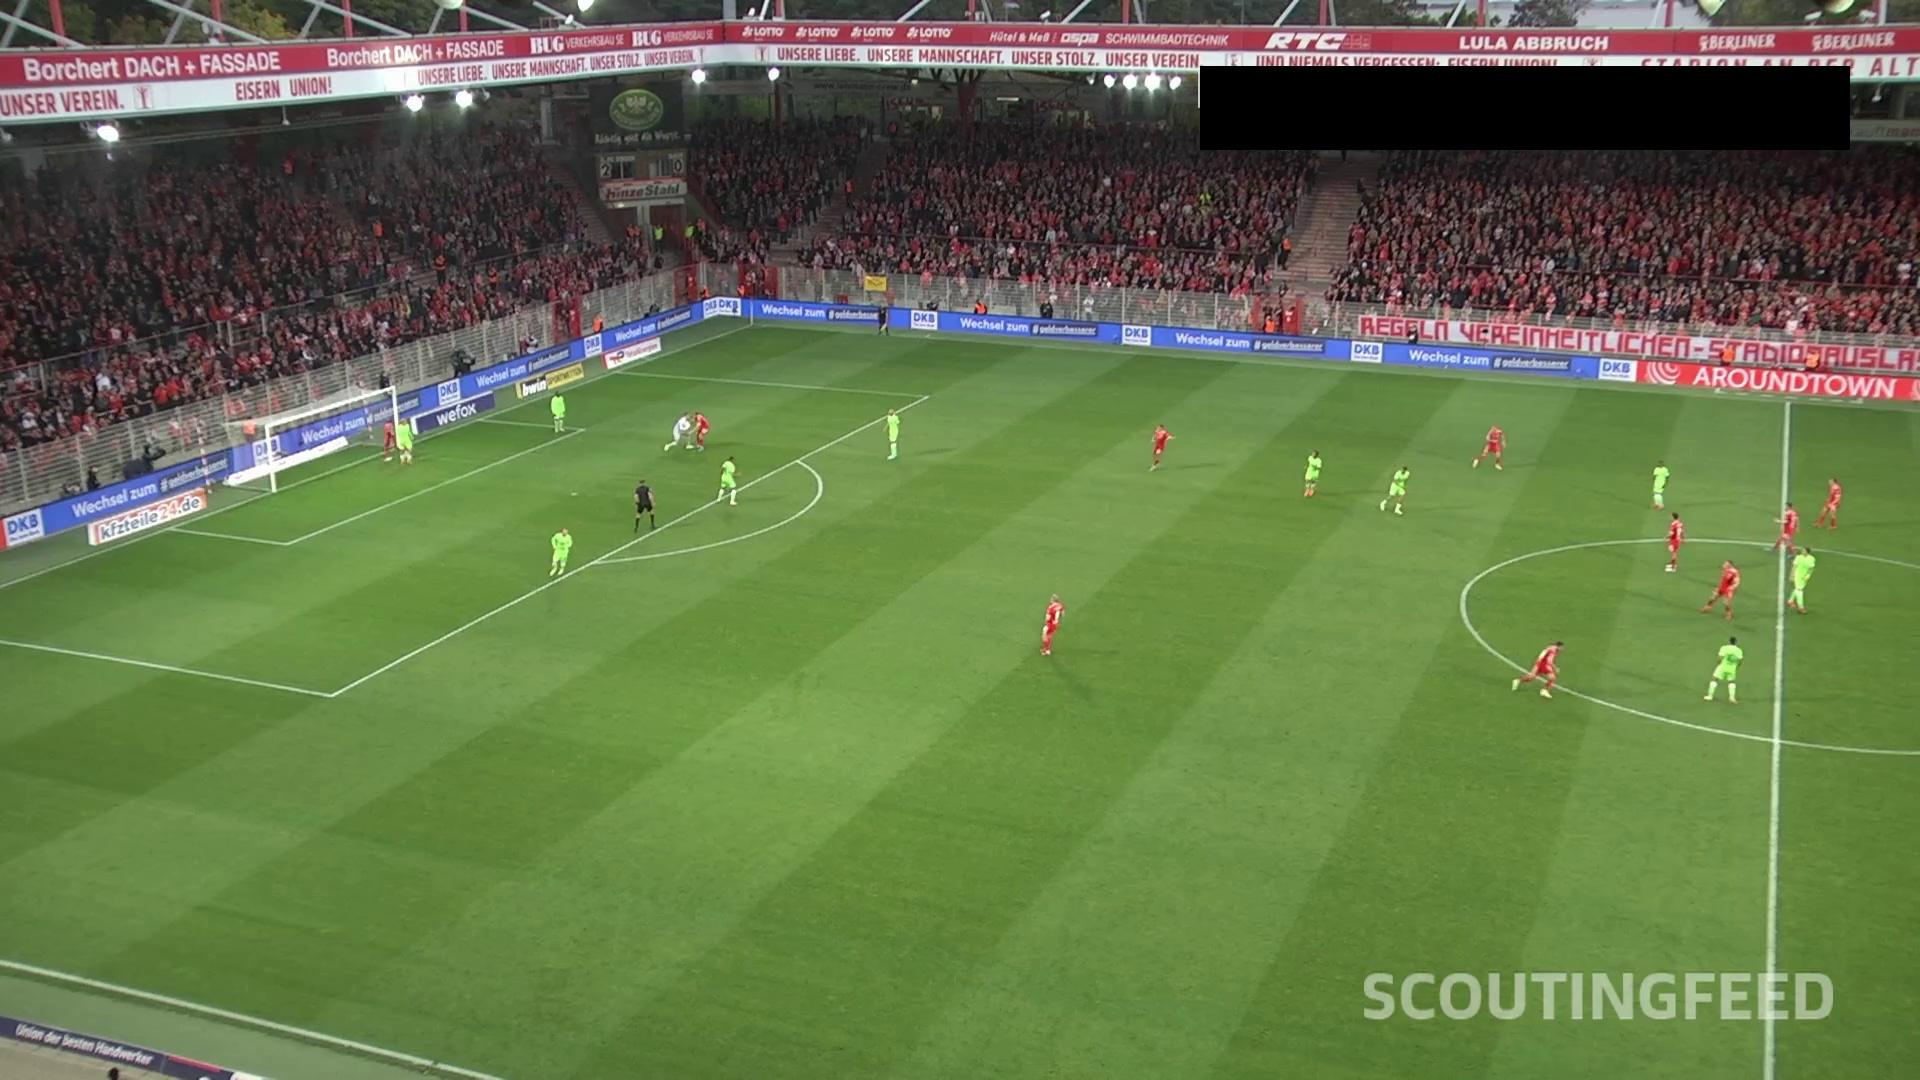Location-of-ball: (682, 436, 700, 456)
